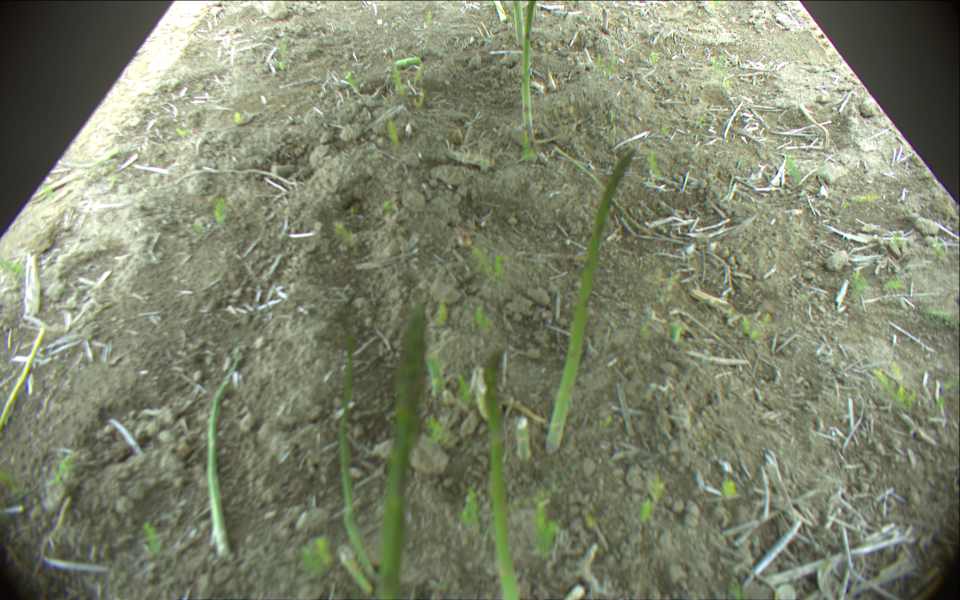aspa: (546, 149, 638, 453), (380, 299, 426, 600), (553, 144, 684, 247), (483, 351, 520, 600), (207, 353, 246, 557), (342, 336, 373, 574), (1, 327, 45, 437), (521, 1, 538, 145), (340, 552, 375, 595), (427, 353, 446, 398), (510, 1, 526, 47), (517, 418, 531, 459), (396, 55, 421, 67), (496, 1, 508, 23)
